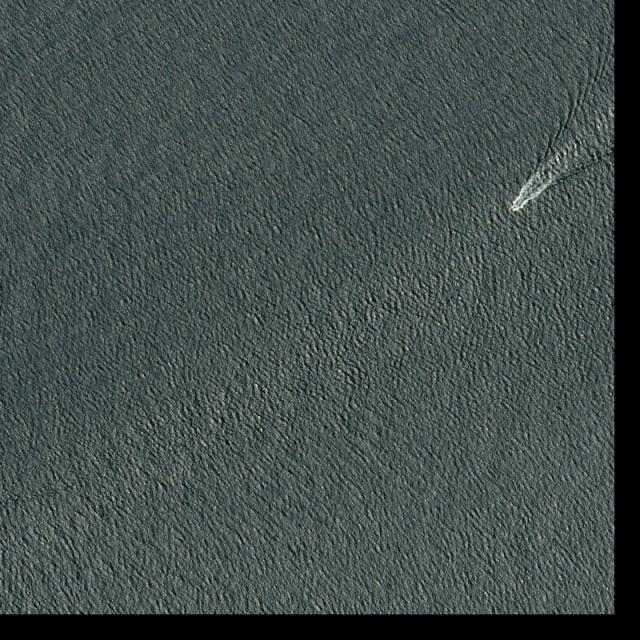ship: (511, 205, 519, 214)
